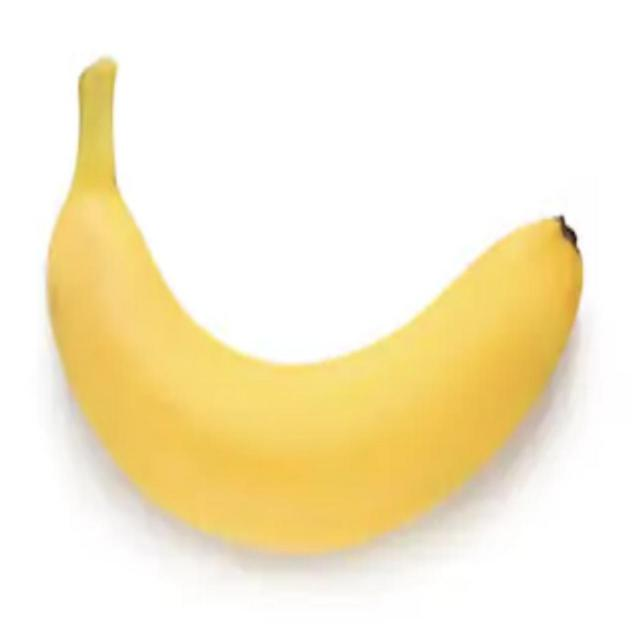banana: (0, 29, 638, 579)
